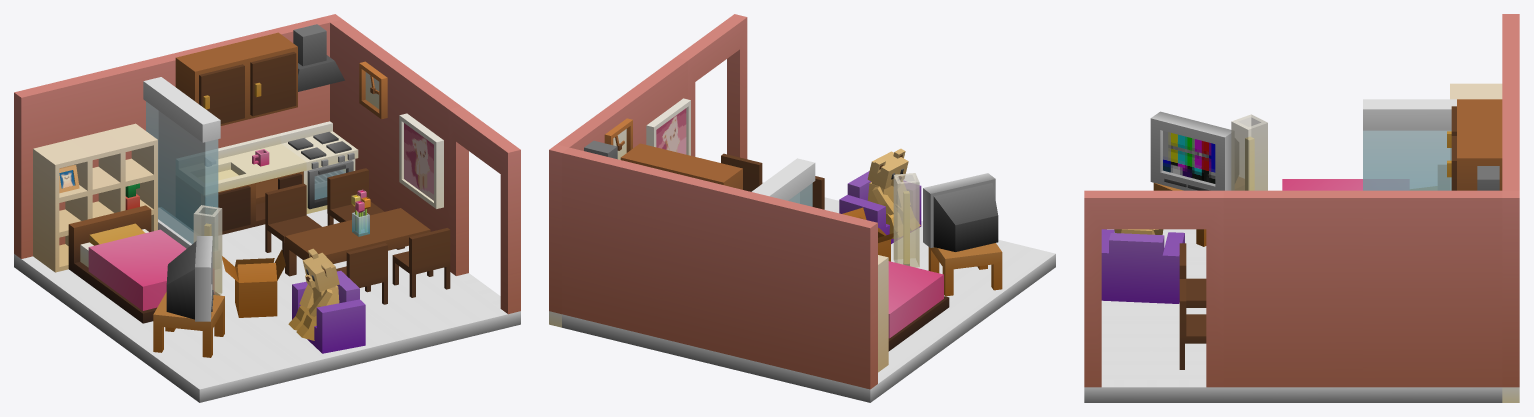
Rendered from free_sampleroom.fbx.
3 views of the same model, side by side, from view 1: azimuth 30°, elevation 25°; view 2: azimuth 150°, elevation 25°; view 3: azimuth 270°, elevation 25° (orthographic). The views are drawn at different scales.
Visible parts, largest first — view 1: 4m_Floor.001, Shelf_Cube_3x3.001, 4m_Wall.001, 4m_Divider_Modern_Glass.001, Chair_Brown.001, 4m_Wall_Doorhole.001, 4m_Wall.004, 4m_Wall.005, 4m_Wall.002, Bed_Twin_Blanket.001, Table_Long.001, Bed_Twin.001 (+23 smaller); view 2: 4m_Wall.001, 4m_Wall.002, 4m_Wall.003, 4m_Floor.001, TV.001, 4m_Wall_Doorhole.001, 4m_Wall.005, Bed_Twin_Blanket.001, StandingLamp.001, Bear.003, Divider_BasicWall_Corner.001, Table_Square.001 (+13 smaller); view 3: 4m_Wall.004, 4m_Wall.005, 4m_Wall_Doorhole.001, 4m_Floor.001, 4m_Divider_Modern_Glass.001, TV.001, Couch.001, Divider_BasicWall_Corner.001, 4m_FloorTrim.001, StandingLamp.001, WallCabinet_2Layer_1Door.001, 4m_FloorTrim.002 (+11 smaller).
Part boxes in pixels (box(x1,y1,x2,y2)): 4m_Floor.001: box(21, 209, 507, 402); Shelf_Cube_3x3.001: box(33, 123, 157, 272); 4m_Wall.001: box(14, 67, 124, 258); 4m_Divider_Modern_Glass.001: box(143, 77, 220, 268); Chair_Brown.001: box(265, 168, 450, 304); 4m_Wall_Doorhole.001: box(448, 106, 520, 314); 4m_Wall.004: box(330, 19, 401, 211); 4m_Wall.005: box(389, 63, 460, 231); 4m_Wall.002: box(117, 42, 226, 215); Bed_Twin_Blanket.001: box(88, 229, 214, 310); Table_Long.001: box(285, 208, 430, 276); Bed_Twin.001: box(68, 205, 219, 323); 4m_Wall.001: box(767, 198, 877, 389); 4m_Wall.002: box(664, 172, 774, 364); 4m_Wall.003: box(562, 147, 671, 339); 4m_Floor.001: box(762, 182, 1055, 396); TV.001: box(923, 173, 998, 251); 4m_Wall_Doorhole.001: box(675, 14, 747, 158); 4m_Wall.005: box(616, 57, 687, 148); Bed_Twin_Blanket.001: box(888, 261, 943, 338); StandingLamp.001: box(893, 173, 919, 267); Bear.003: box(867, 148, 920, 239); Divider_BasicWall_Corner.001: box(549, 144, 568, 314); Table_Square.001: box(928, 243, 1002, 296); 4m_Wall.004: box(1363, 190, 1502, 387); 4m_Wall.005: box(1223, 190, 1362, 387); 4m_Wall_Doorhole.001: box(1084, 190, 1223, 387); 4m_Floor.001: box(1101, 229, 1206, 379); 4m_Divider_Modern_Glass.001: box(1363, 99, 1456, 190); TV.001: box(1150, 111, 1238, 190); Couch.001: box(1101, 229, 1184, 303); Divider_BasicWall_Corner.001: box(1502, 190, 1519, 387); 4m_FloorTrim.001: box(1084, 380, 1223, 402); StandingLamp.001: box(1231, 114, 1267, 190); WallCabinet_2Layer_1Door.001: box(1457, 128, 1502, 190); 4m_FloorTrim.002: box(1223, 387, 1362, 402).
Size of the model in its own units: 125 by 65.89 by 125.
Materials: 5 (5 with a texture image).
